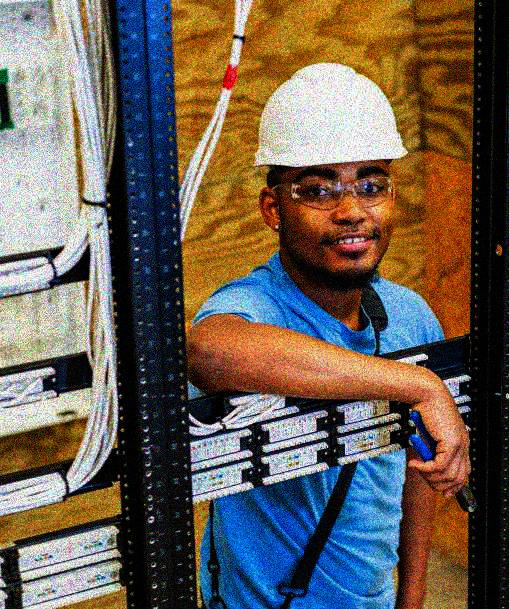helmet: (248, 59, 410, 285)
